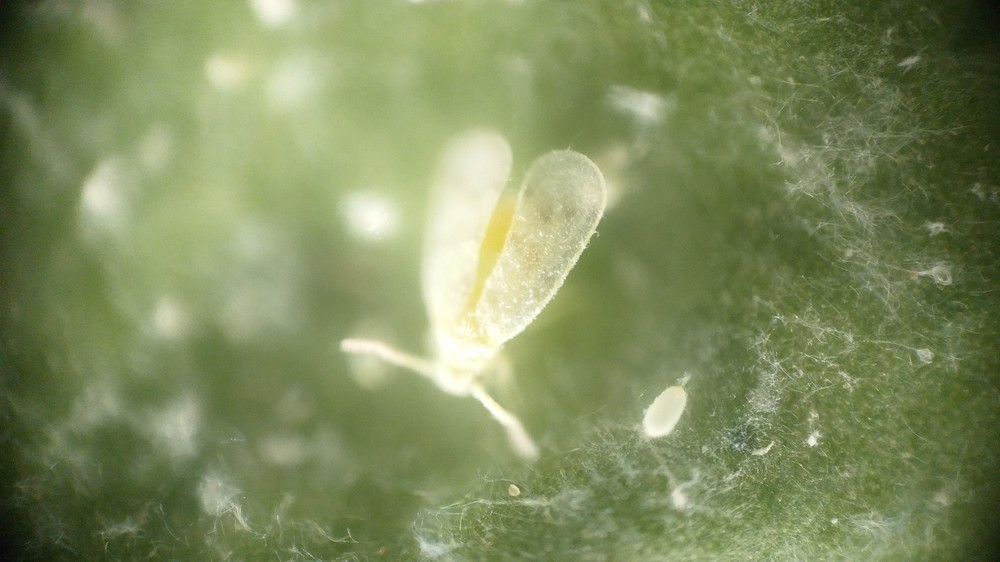Mosca Blanca: (338, 135, 632, 470)
